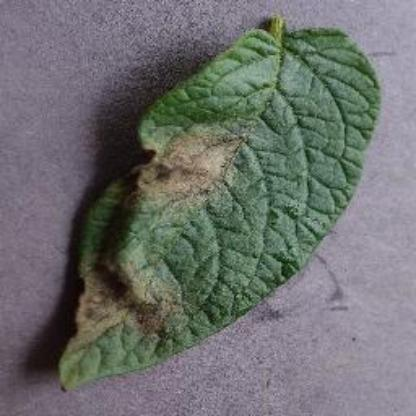Late-Blight: (56, 28, 380, 400)
